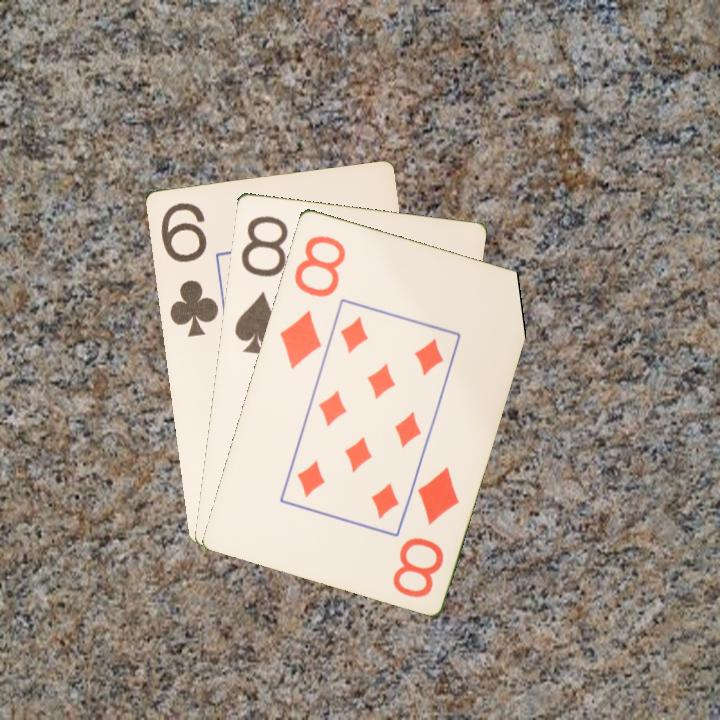6c: (156, 198, 221, 339)
8d: (388, 462, 462, 600), (276, 231, 348, 372)
8s: (231, 211, 291, 357)
